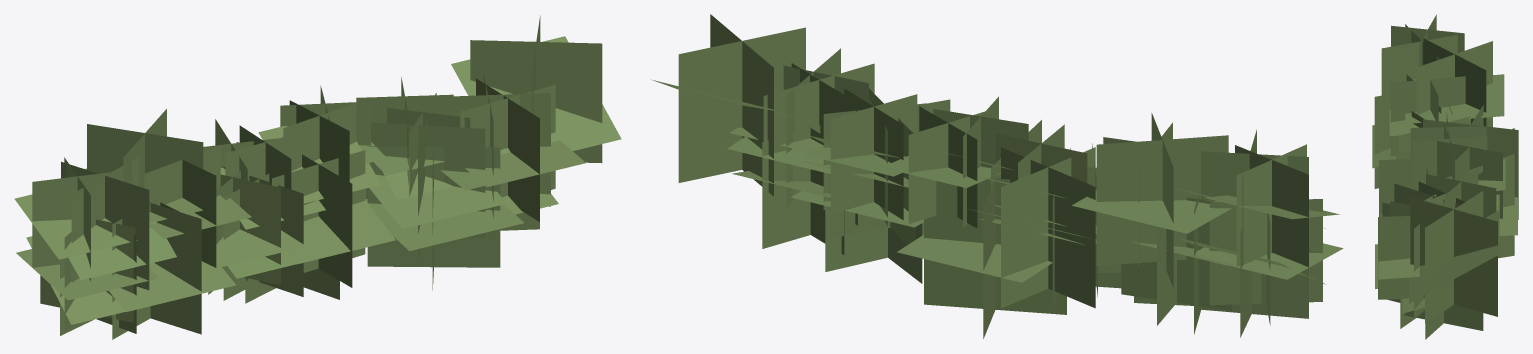
File: hedge.glb
The picture shows the model from 3 angles, left to right: view 1: azimuth 30°, elevation 25°; view 2: azimuth 150°, elevation 25°; view 3: azimuth 270°, elevation 25°; orthographic projection. The views are drawn at different scales.
Visible parts, largest first — view 1: hedge; view 2: hedge; view 3: hedge.
Boxes of the visible parts, x1=… form: hedge: x1=14, y1=15, x2=621, y2=339; hedge: x1=651, y1=14, x2=1343, y2=338; hedge: x1=1372, y1=14, x2=1518, y2=339.
Bounding box in the file's own units: 10.81 × 3.42 × 3.
